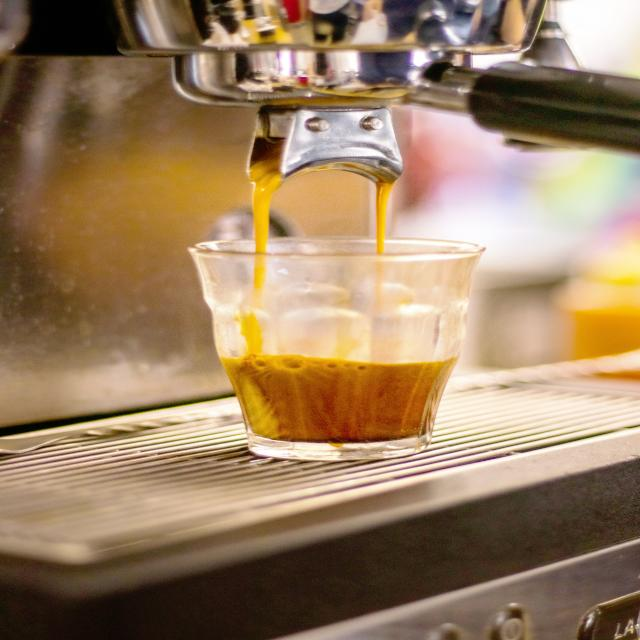drink: (192, 234, 483, 464)
